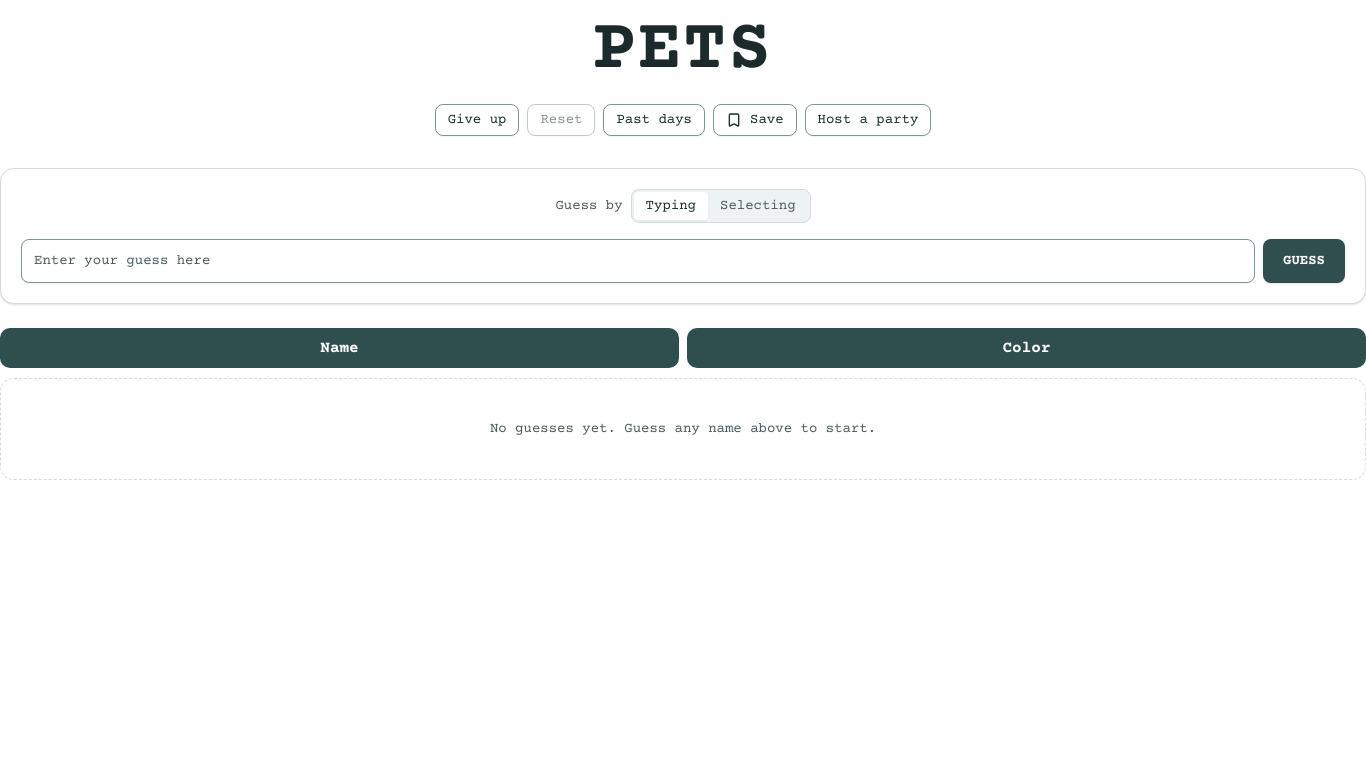
Test case: PlayPage › a win after the day rolled over times from the new day's first guess
expect the text "No guesses yet. Guess any name above to start." is shown: met, box x1=0 y1=378 x2=1365 y2=480
Type "Bela" into the dropdown named "Name". click: (638, 261)
box: x1=21 y1=239 x2=1255 y2=283
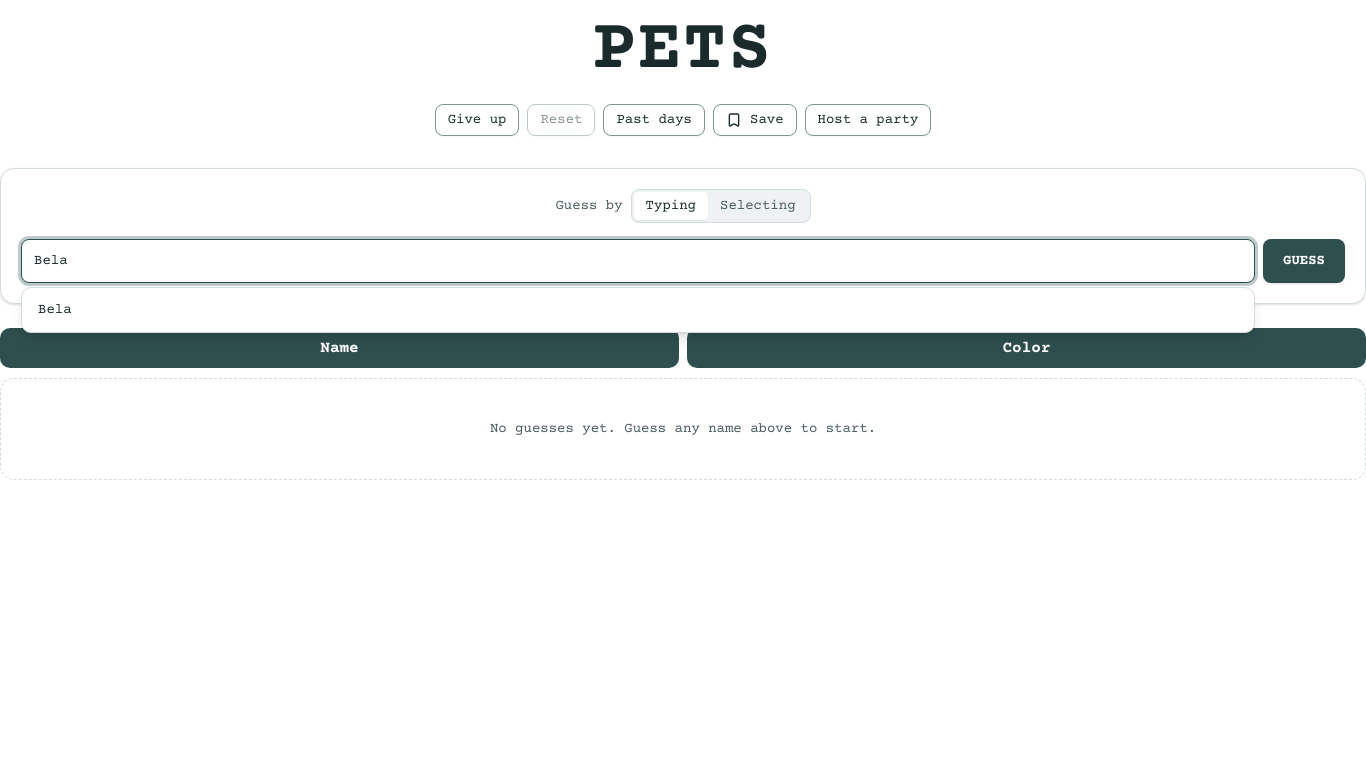
Click the button "Guess". click: (1304, 261)
box: x1=1263 y1=239 x2=1345 y2=283
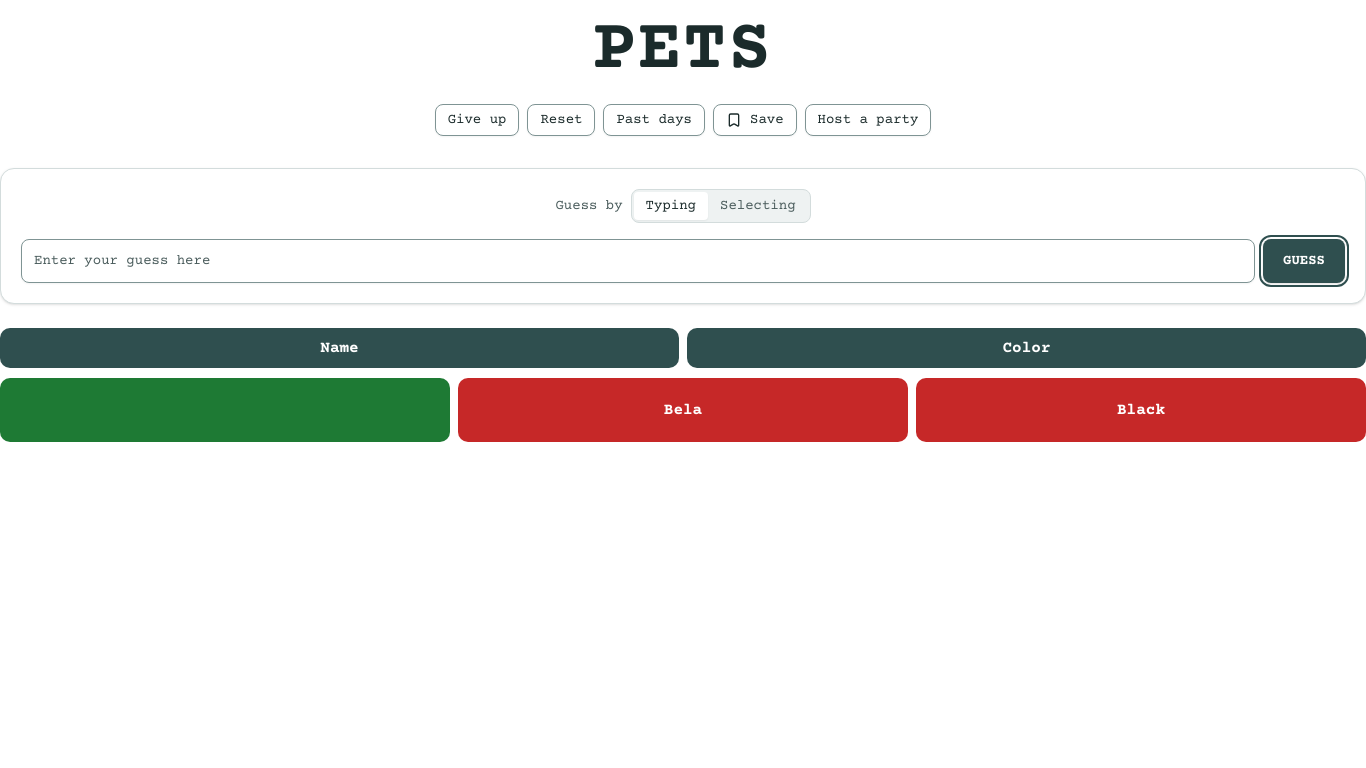
Type "Dido" into the dropdown named "Name". click: (638, 261)
box: x1=21 y1=239 x2=1255 y2=283
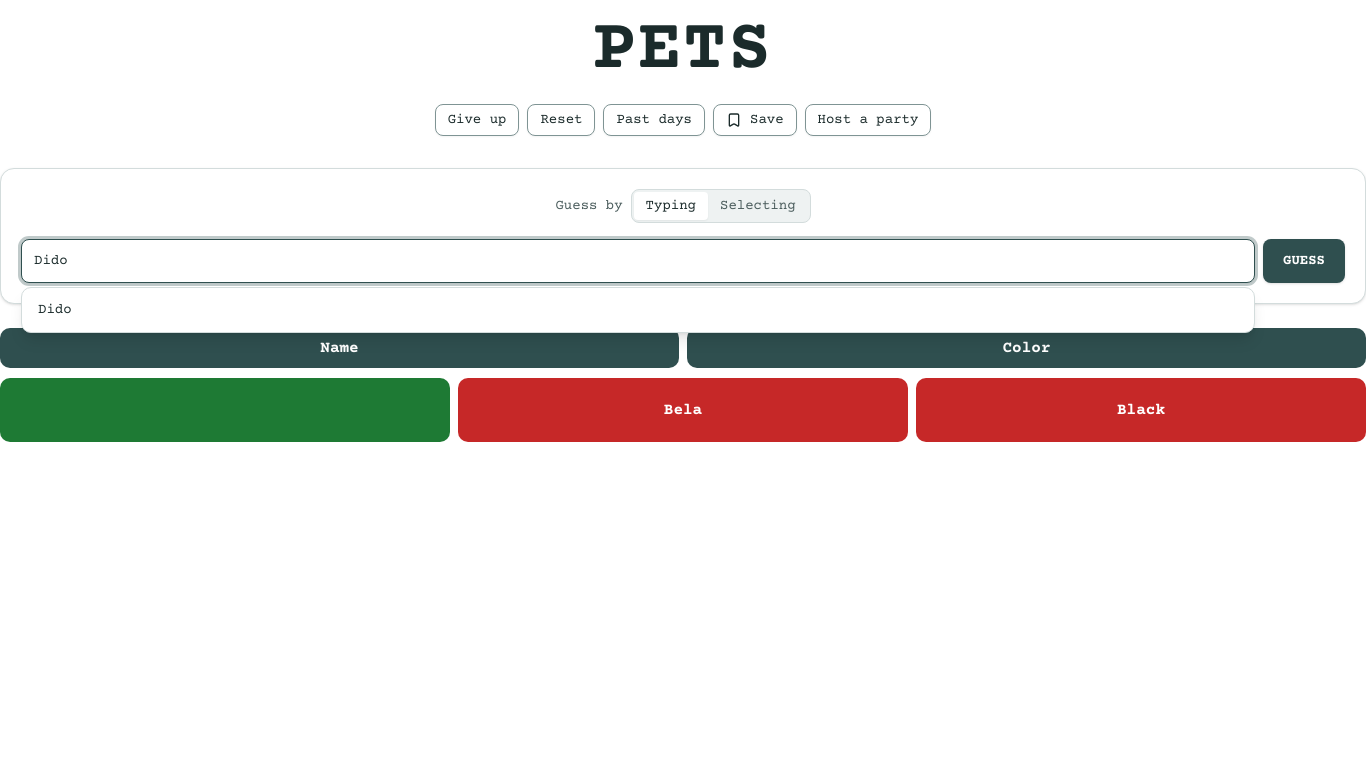
Click the button "Guess". click: (1304, 261)
box: x1=1263 y1=239 x2=1345 y2=283
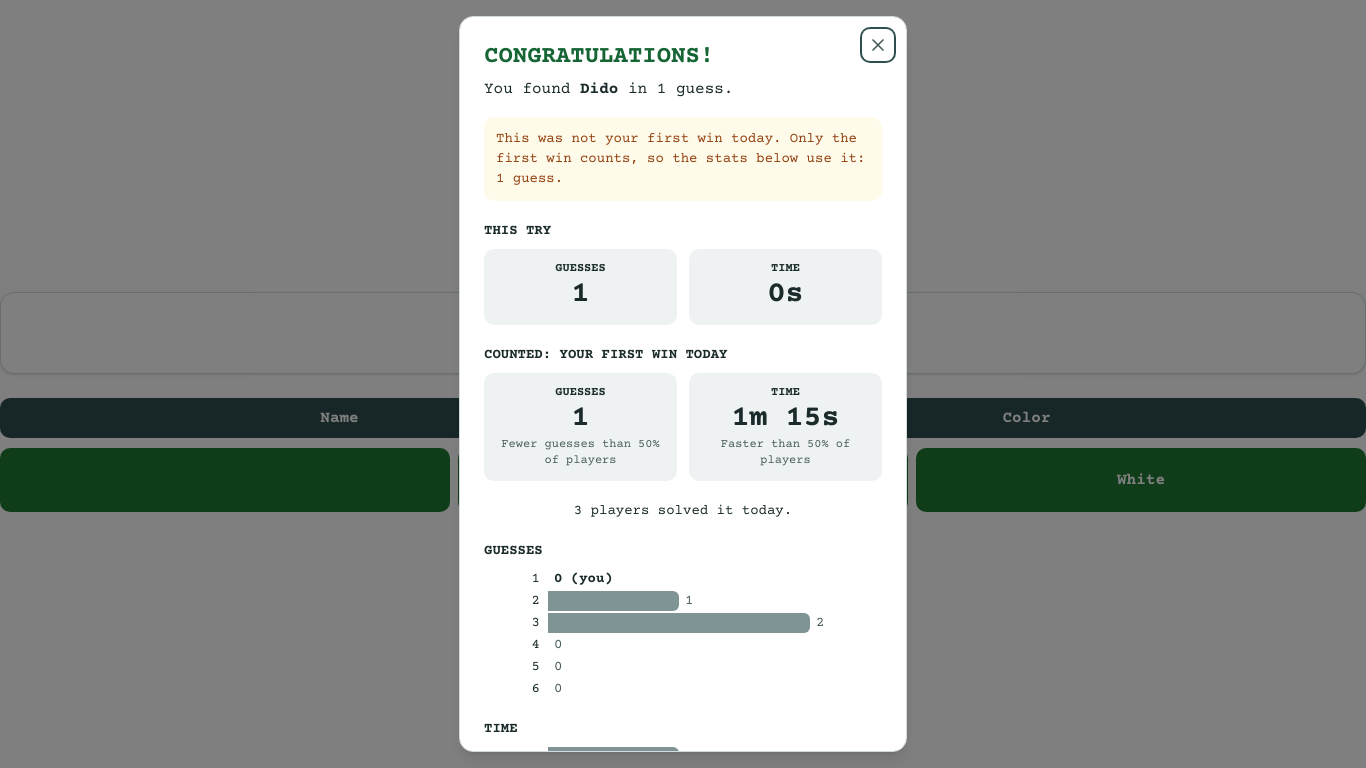
expect the dialog is shown: met, box x1=459 y1=16 x2=907 y2=752
